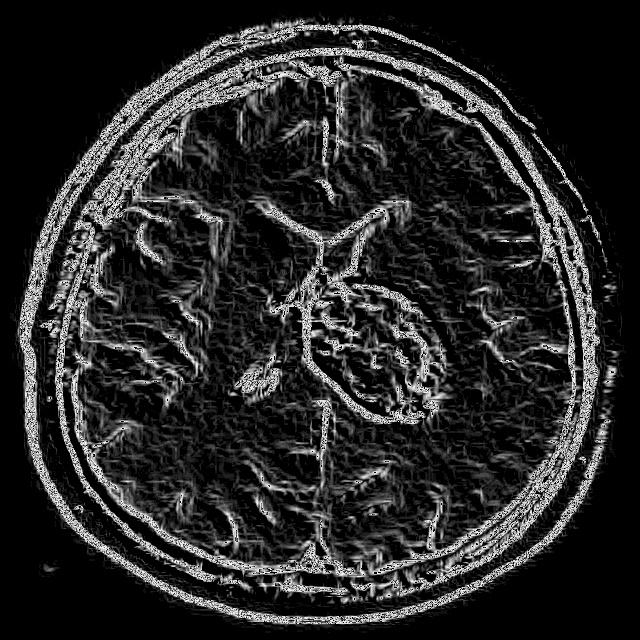Brain-Tumor: (296, 272, 462, 435)
